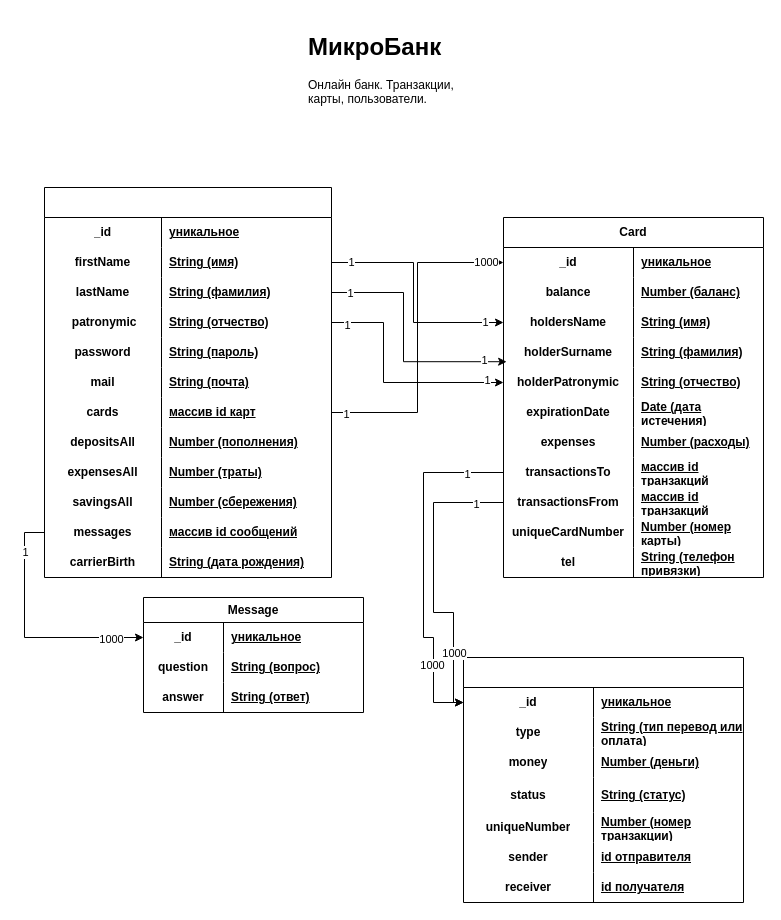
This 781x920 diagram has some shape labels left out. Here are the shapes that lost their labels. From the top down, the box of each, then its label:
(44, 186, 332, 578): User
(462, 656, 744, 902): Transaction
